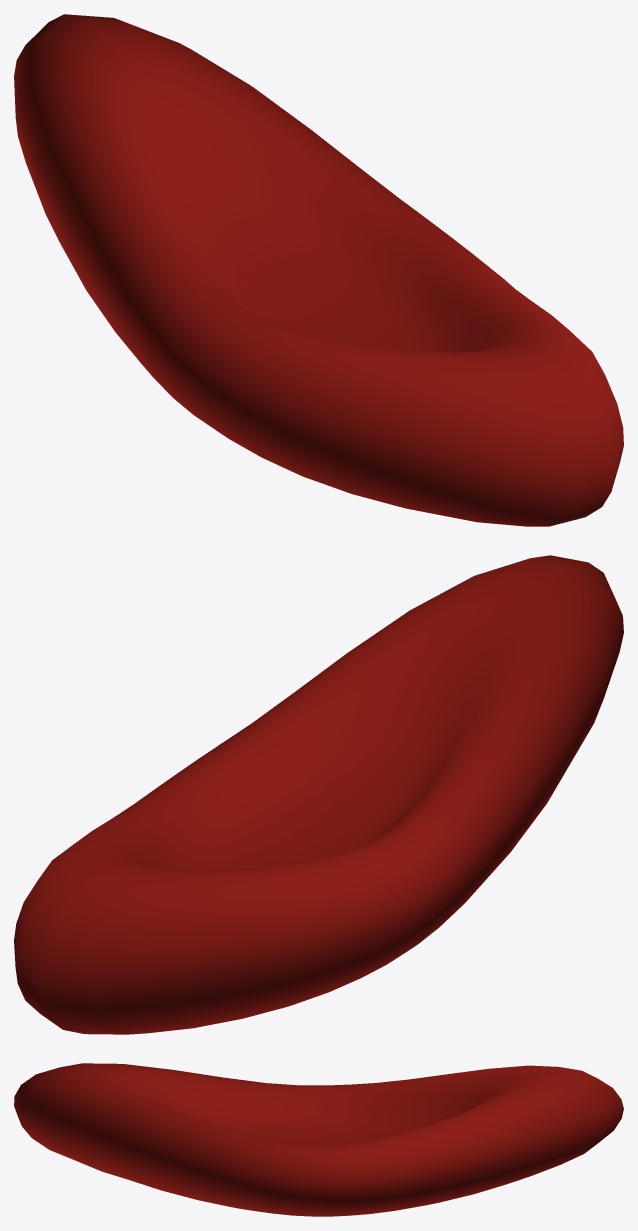
Rendered from RBC.gltf.
The picture shows the model from 3 angles, top to bottom: view 1: azimuth 30°, elevation 25°; view 2: azimuth 150°, elevation 25°; view 3: azimuth 270°, elevation 25°; orthographic projection. The views are drawn at different scales.
Parts seen in each view (by area): view 1: Torus.002_0; view 2: Torus.002_0; view 3: Torus.002_0.
Boxes of the visible parts, x1,y1,x2,y2 form: Torus.002_0: (14,14,623,526); Torus.002_0: (14,555,623,1034); Torus.002_0: (14,1063,623,1216).
Size of the model in its own units: 0.2122 by 0.1619 by 0.6995.
